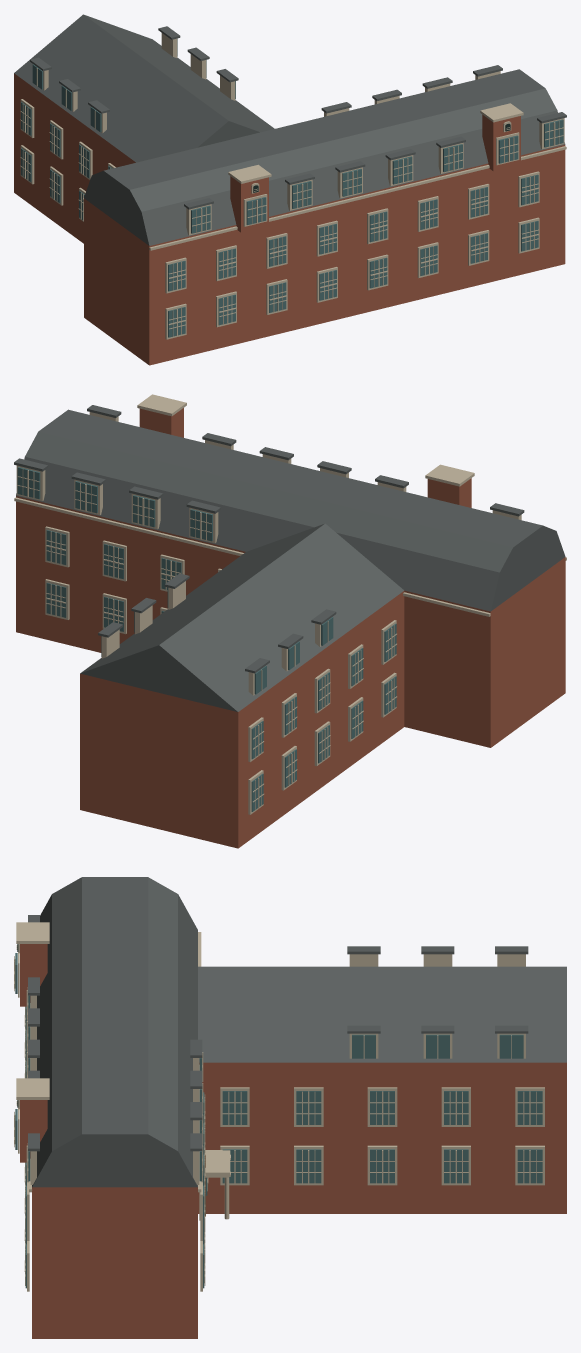
The model's file is susan-parapet-arches-exterior-2026-11-10.glb.
The picture shows the model from 3 angles, top to bottom: view 1: azimuth 30°, elevation 25°; view 2: azimuth 150°, elevation 25°; view 3: azimuth 270°, elevation 25°; orthographic projection. The views are drawn at different scales.
Visible parts, largest first — view 1: susan-part-0; view 2: susan-part-0; view 3: susan-part-0.
Part boxes in pixels (box(x1,y1,x2,y2)): susan-part-0: box(14, 14, 566, 365); susan-part-0: box(14, 394, 566, 848); susan-part-0: box(14, 877, 566, 1338).
Size of the model in its own units: 33 by 12.7 by 29.98.
